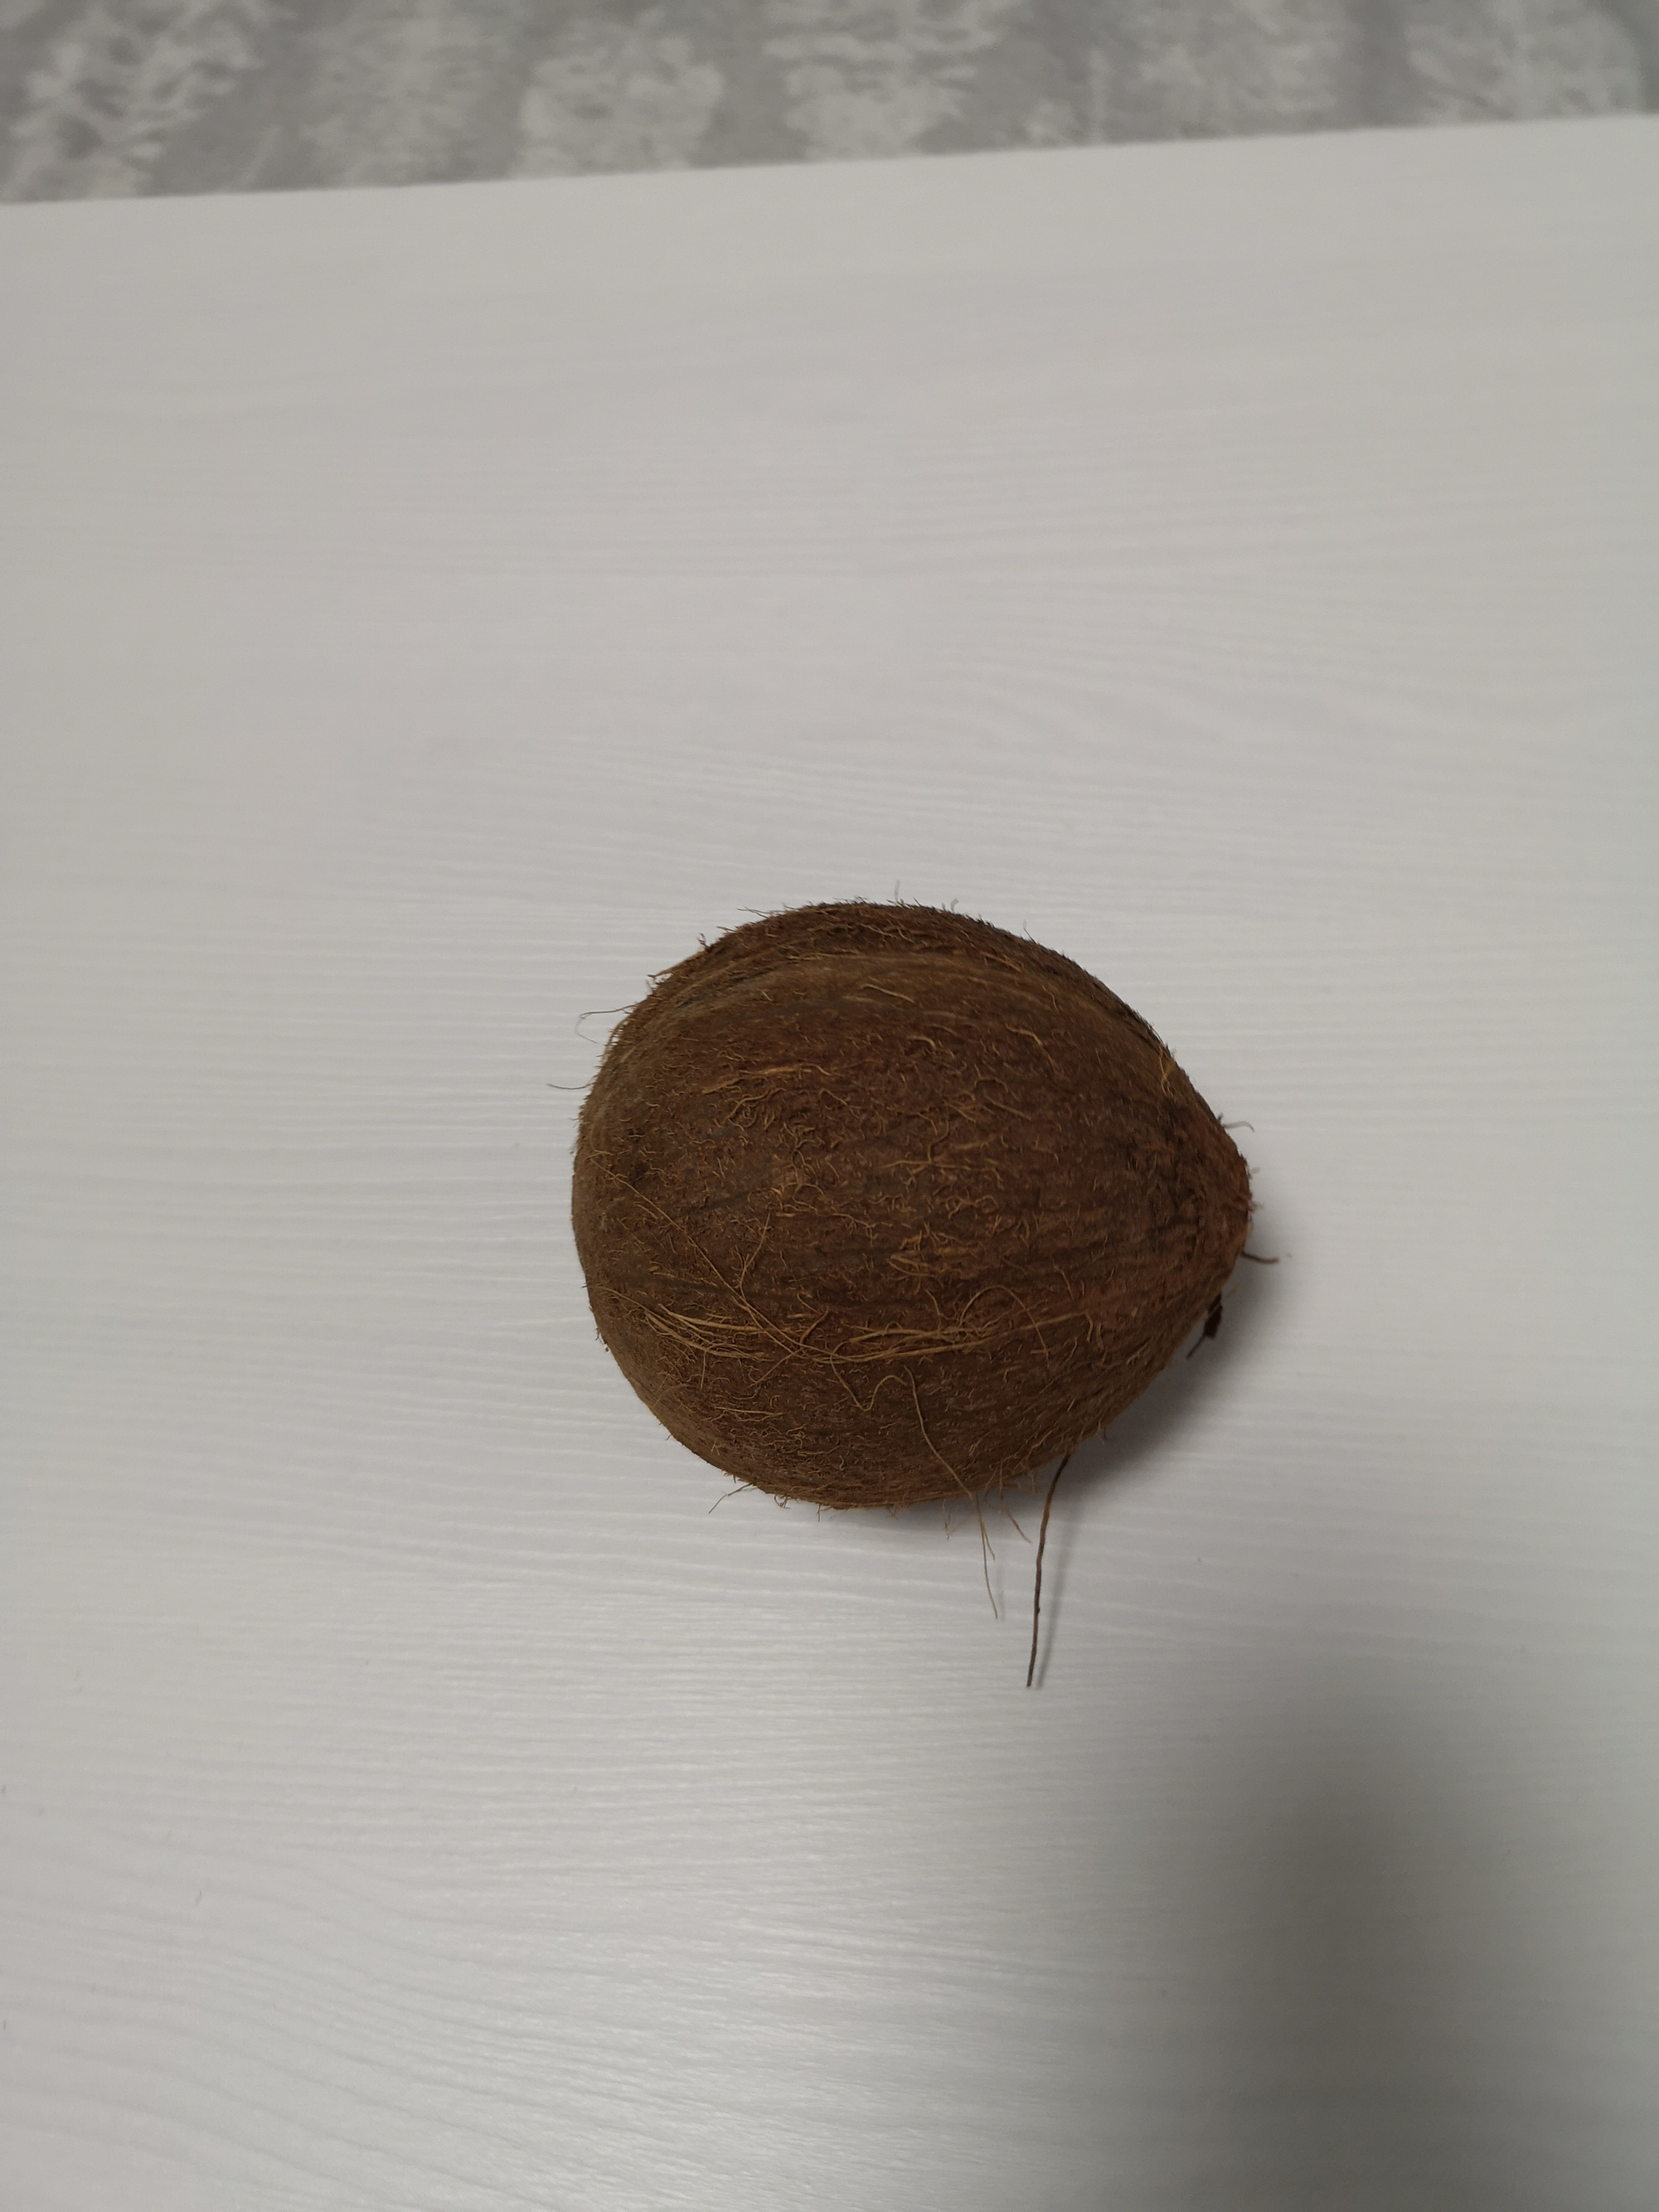coconut: (561, 895, 1272, 1524)
